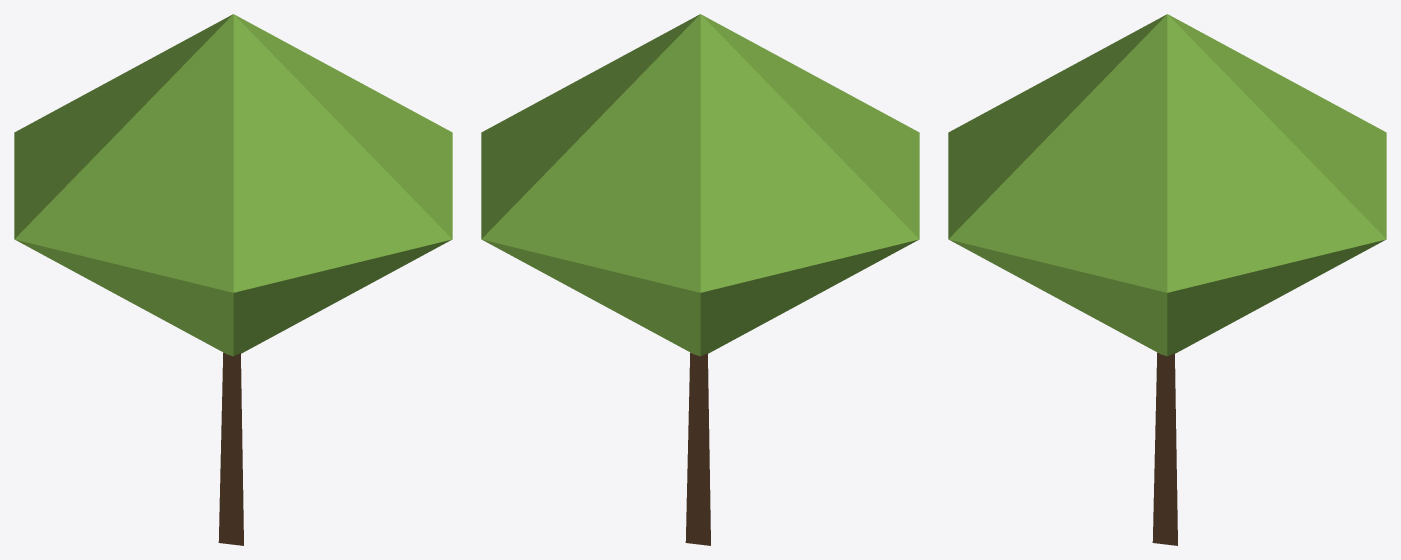
Rendered from saule_loin.glb.
3 views of the same model, side by side, from view 1: azimuth 30°, elevation 25°; view 2: azimuth 150°, elevation 25°; view 3: azimuth 270°, elevation 25° (orthographic).
Parts seen in each view (by area): view 1: saule_loin; view 2: saule_loin; view 3: saule_loin.
Boxes of the visible parts, x1=… form: saule_loin: x1=14, y1=14, x2=452, y2=545; saule_loin: x1=481, y1=14, x2=919, y2=545; saule_loin: x1=948, y1=14, x2=1386, y2=545.
Size of the model in its own units: 8 by 9.2 by 6.93.
Materials: 1 (1 with a texture image).
